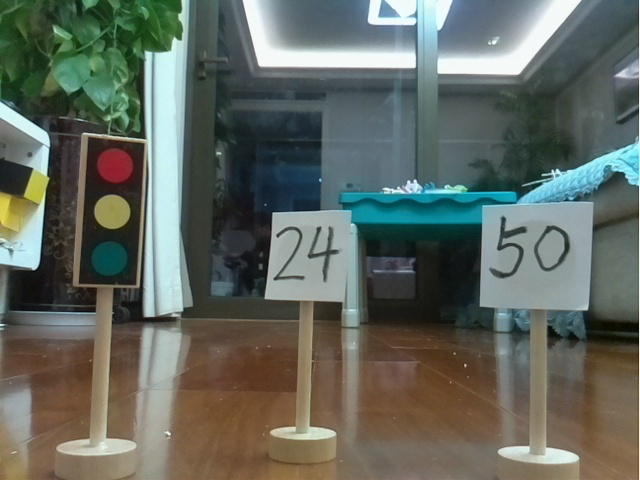Red Traffic Light: (52, 124, 149, 478)
Speed Limit 24: (258, 200, 357, 466)
Speed Limit 50: (474, 197, 598, 480)
